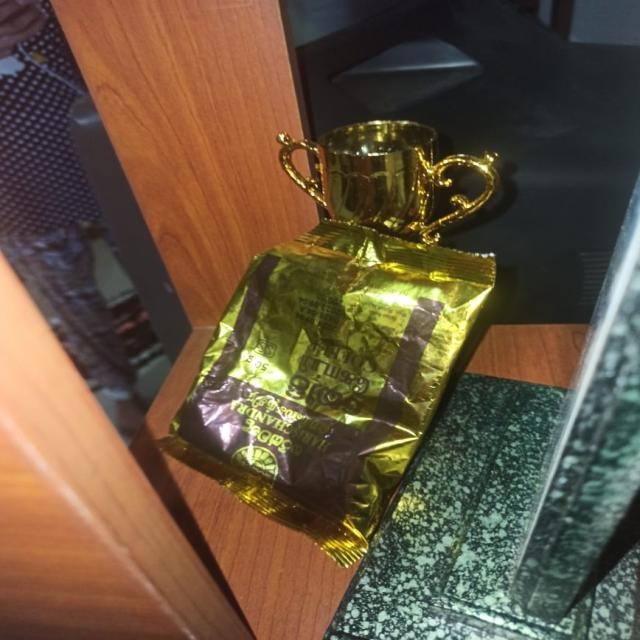Harischandra Coffee: (140, 203, 431, 568)
